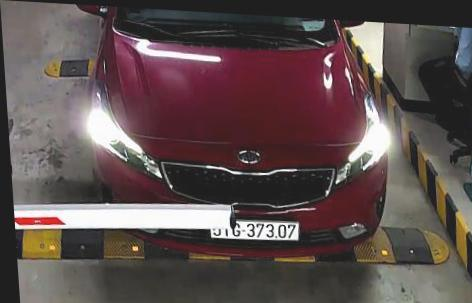License_Plate: (209, 216, 303, 245)
